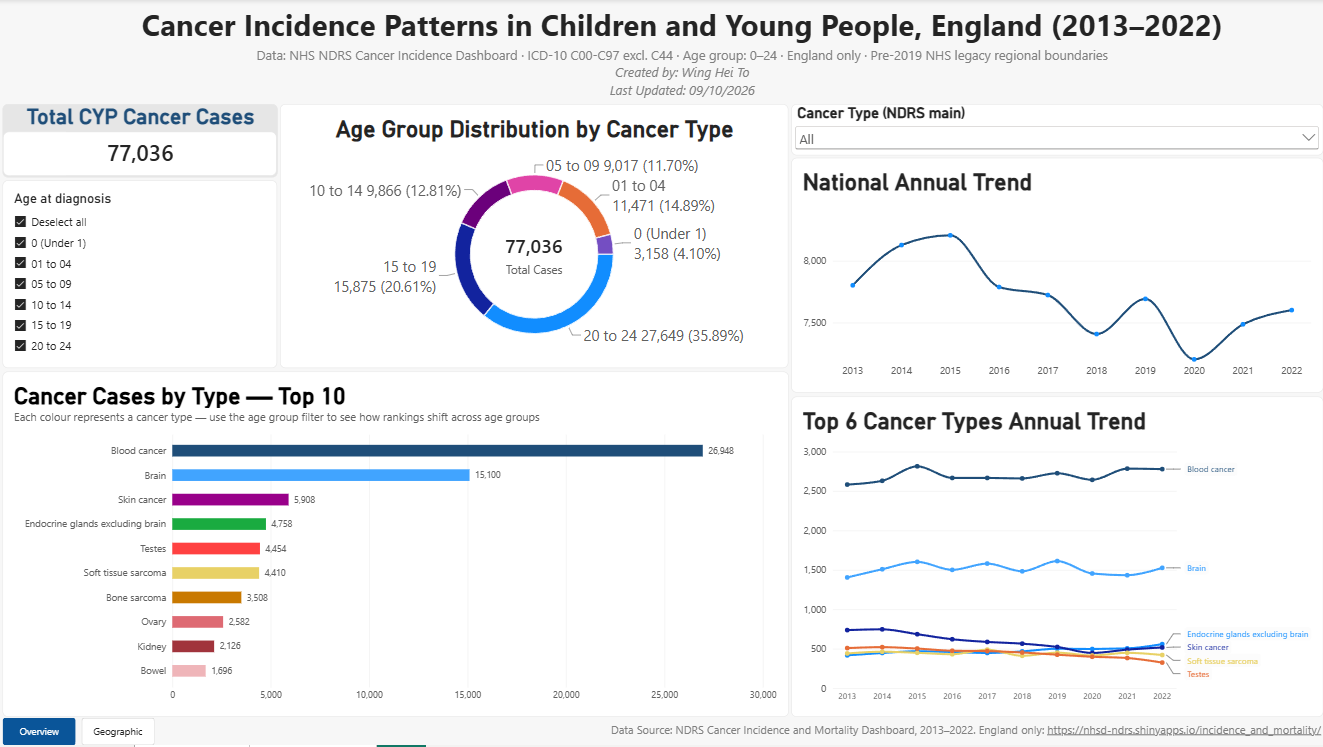

The page's visual inventory and layout, read from the dashboard file:
{"tool":"powerbi","page":{"name":"Overview","canvas":[1920,1080],"ordinal":0},"visuals":[{"type":"textbox","box":[199.2,6.7,1577.6,110.8],"z":0},{"type":"textbox","box":[98,69,1780,82.5],"z":1000},{"type":"cardVisual","title":"Total CYP Cancer Cases","fields":{"Data":["national.Total Cases"]},"box":[4,152,398.1,106],"z":2000},{"type":"clusteredBarChart","title":"Cancer Cases by Type — Top 10","fields":{"Category":["national.NDRS main"],"Y":["Sum(national.Count)"]},"box":[4,540,1138,500],"z":3000},{"type":"lineChart","title":"National Annual Trend","fields":{"Category":["national.YearDate.Variation.Date Hierarchy.Year"],"Y":["Sum(national.Count)"]},"box":[1146,230,770,340],"z":4000},{"type":"listSlicer","fields":{"Values":["national.Age at diagnosis"]},"box":[4,262,397.8,272],"z":5000},{"type":"donutChart","title":"Age Group Distribution by Cancer Type","fields":{"Category":["national.Age at diagnosis"],"Y":["Sum(national.Count)"]},"box":[406,152,736,382],"z":6000},{"type":"slicer","fields":{"Values":["national.NDRS main"]},"box":[1146,152,770,74],"z":7000},{"type":"lineChart","title":"Top 6 Cancer Types Annual Trend","fields":{"Category":["national.YearDate.Variation.Date Hierarchy.Year"],"Series":["national.NDRS main"],"Y":["Sum(national.Count)"]},"box":[1146,576,770,464],"z":8000},{"type":"pageNavigator","box":[4,1040,220,40],"z":9000},{"type":"textbox","box":[754,1046,1158,30],"z":10000}]}

Visuals, with their boxes in screenshot pixels (x1, y1, x2, y2), scaled from the page's 1920x1080 canvas onto the 1323x747 screenshot:
textbox: box(137, 5, 1224, 81)
textbox: box(68, 48, 1294, 105)
"Total CYP Cancer Cases" cardVisual: box(3, 105, 277, 178)
"Cancer Cases by Type — Top 10" clusteredBarChart: box(3, 374, 787, 719)
"National Annual Trend" lineChart: box(790, 159, 1320, 394)
listSlicer - national.Age at diagnosis: box(3, 181, 277, 369)
"Age Group Distribution by Cancer Type" donutChart: box(280, 105, 787, 369)
slicer - national.NDRS main: box(790, 105, 1320, 156)
"Top 6 Cancer Types Annual Trend" lineChart: box(790, 398, 1320, 719)
pageNavigator: box(3, 719, 154, 746)
textbox: box(520, 723, 1317, 744)
